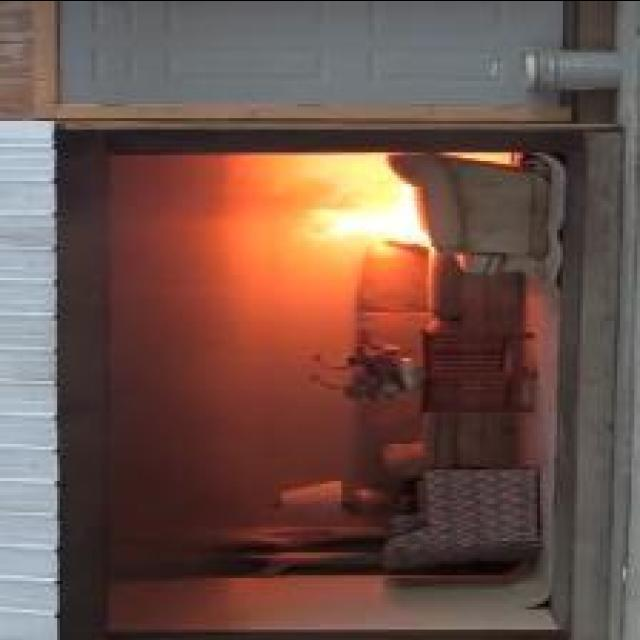Fire: (308, 183, 432, 246)
